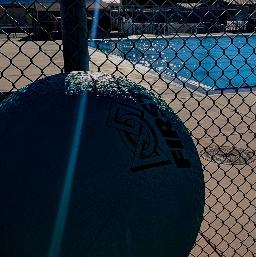algae: (0, 72, 206, 257)
